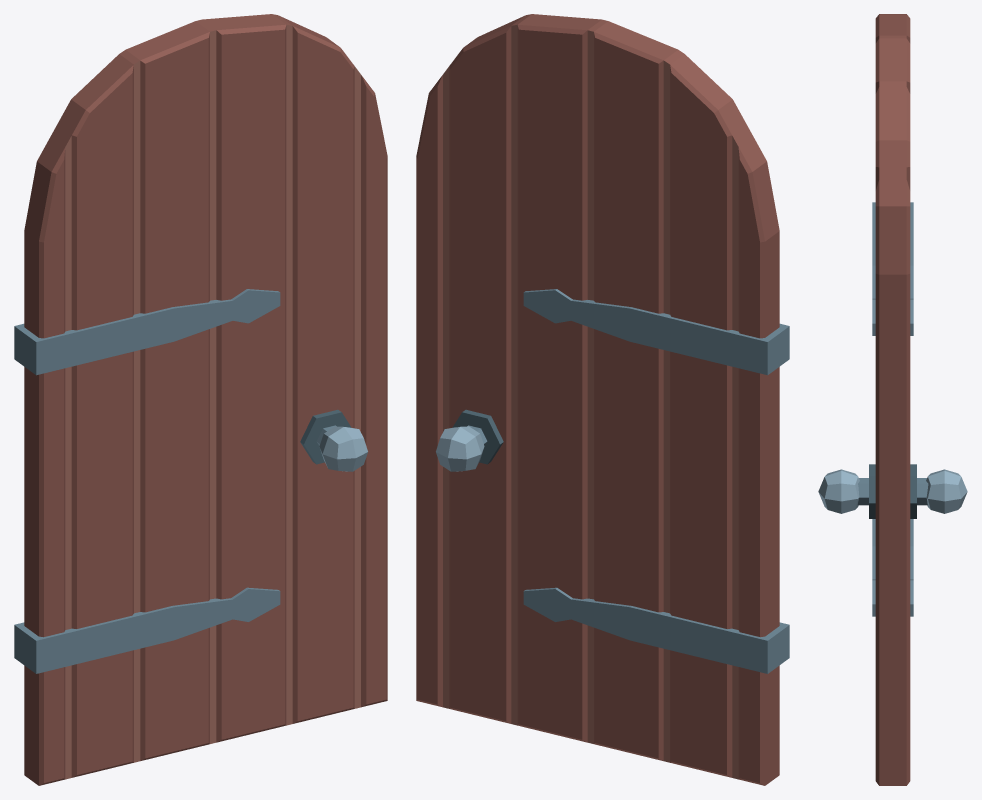
Rendered from Door.fbx.
3 renders of one model, left to right at view 1: azimuth 30°, elevation 25°; view 2: azimuth 150°, elevation 25°; view 3: azimuth 270°, elevation 25°, orthographic. The views are drawn at different scales.
Parts seen in each view (by area): view 1: Door; view 2: Door; view 3: Door.
Part boxes in pixels (x1=…): Door: x1=14, y1=14, x2=387, y2=785; Door: x1=416, y1=14, x2=789, y2=785; Door: x1=818, y1=14, x2=967, y2=785.
Bounding box in the file's own units: 1.12 × 0.4343 × 2.15.
